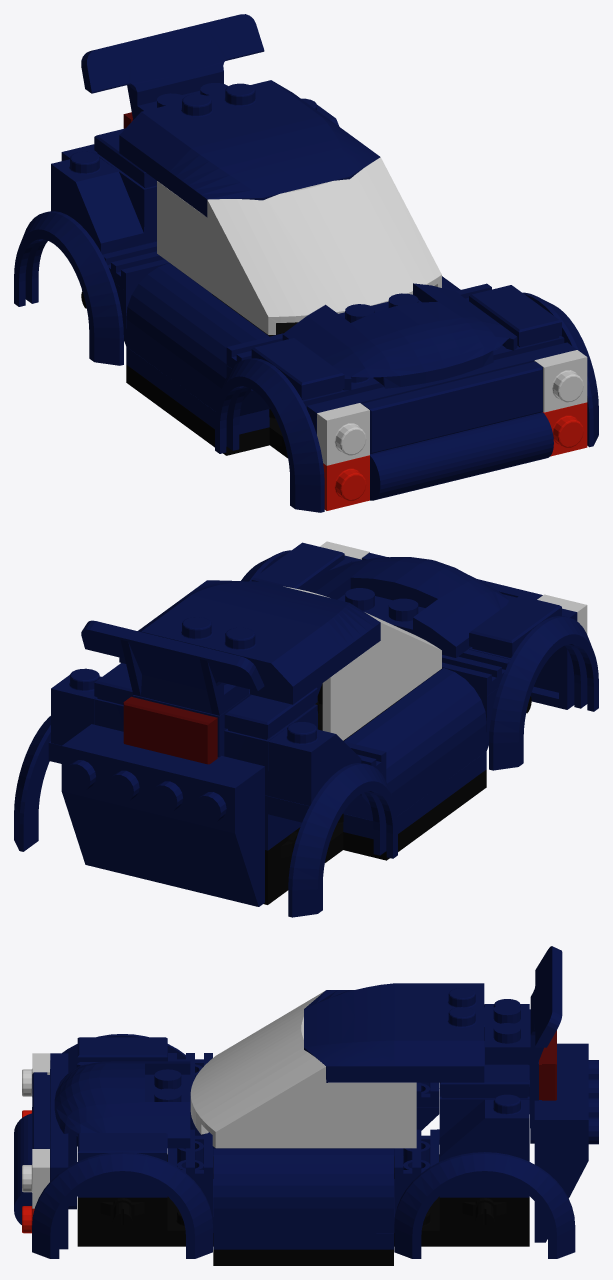
File: Player_Car_Wheelless (1).fbx
3 renders of one model, top to bottom at view 1: azimuth 30°, elevation 25°; view 2: azimuth 150°, elevation 25°; view 3: azimuth 270°, elevation 25°, orthographic. The views are drawn at different scales.
Parts seen in each view (by area): view 1: Player_CarModel; view 2: Player_CarModel; view 3: Player_CarModel.
Part boxes in pixels (bbox=[...]): Player_CarModel: bbox=[14, 14, 598, 512]; Player_CarModel: bbox=[14, 541, 598, 917]; Player_CarModel: bbox=[14, 946, 598, 1265].
Bounding box in the file's own units: 55.9 × 46.01 × 103.
